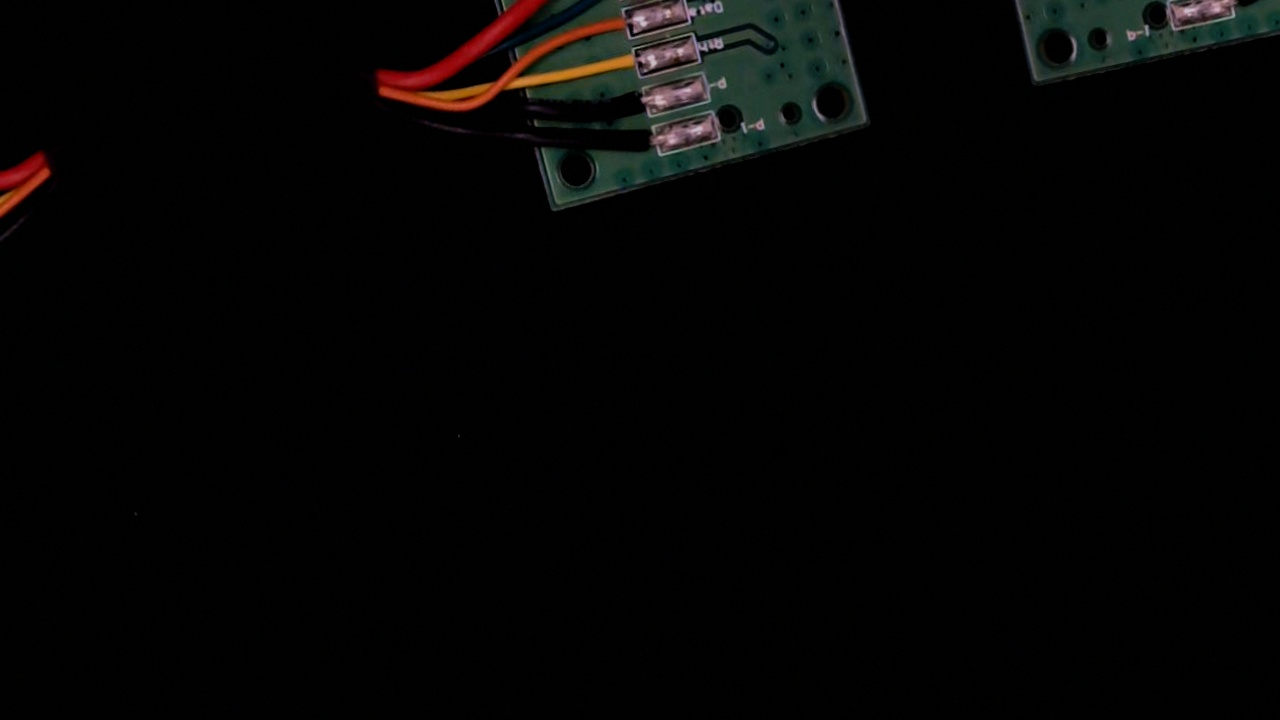Black: (594, 80, 665, 129)
Black1: (603, 122, 677, 171), (1212, 0, 1280, 24)
Green: (569, 0, 637, 12)
Orange: (581, 2, 647, 50)
Yellow: (587, 42, 658, 87)
